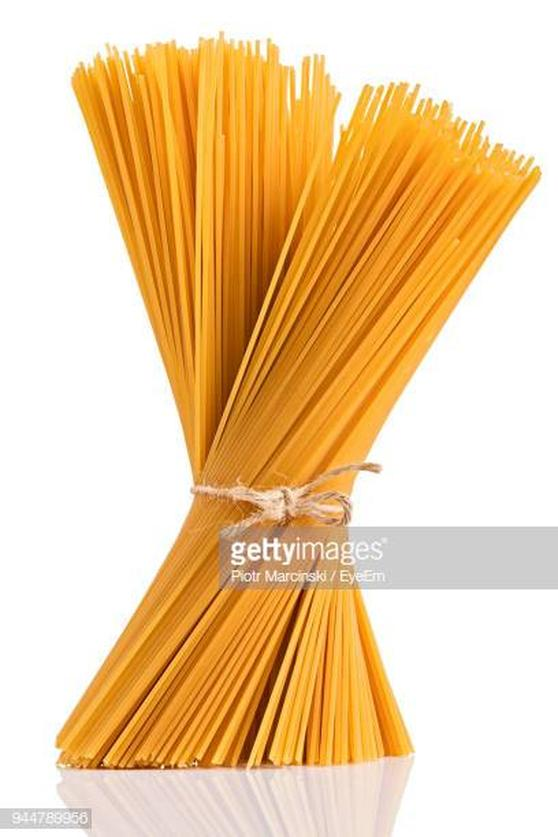spaghetti: (61, 41, 534, 773)
